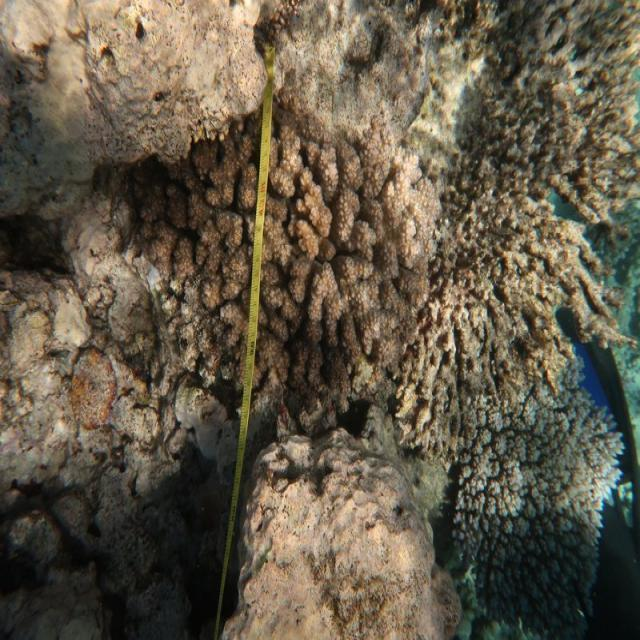Healthy Coral: (126, 34, 435, 448)
